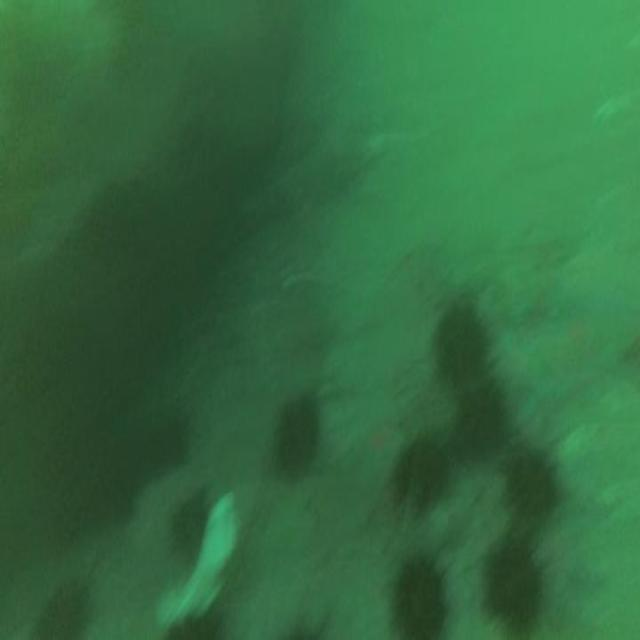echinus: (487, 547, 538, 638), (392, 559, 444, 640), (390, 441, 447, 513), (436, 310, 486, 387), (505, 446, 557, 520), (277, 398, 319, 479), (457, 386, 507, 452), (42, 586, 86, 637), (152, 420, 185, 471)
starfish: (354, 417, 402, 482)
